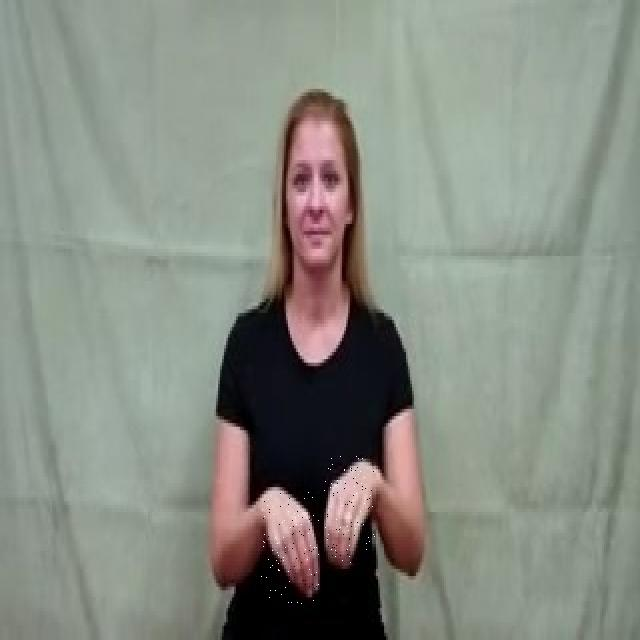ingredients: (261, 492, 319, 604), (324, 456, 376, 563)
